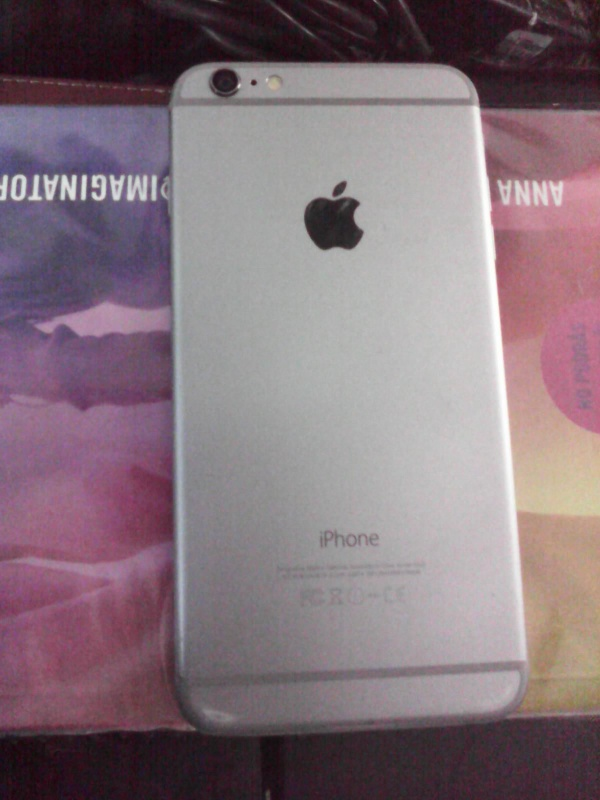apple: (273, 154, 411, 282)
